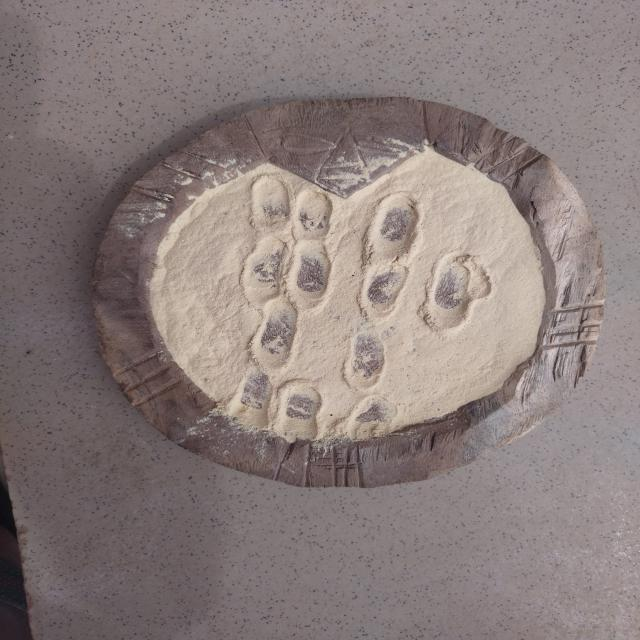double: (366, 250, 484, 334), (238, 238, 332, 308), (248, 178, 336, 240), (239, 372, 320, 435)
single: (364, 193, 422, 261), (340, 332, 392, 394), (258, 300, 302, 370), (344, 392, 394, 440)
